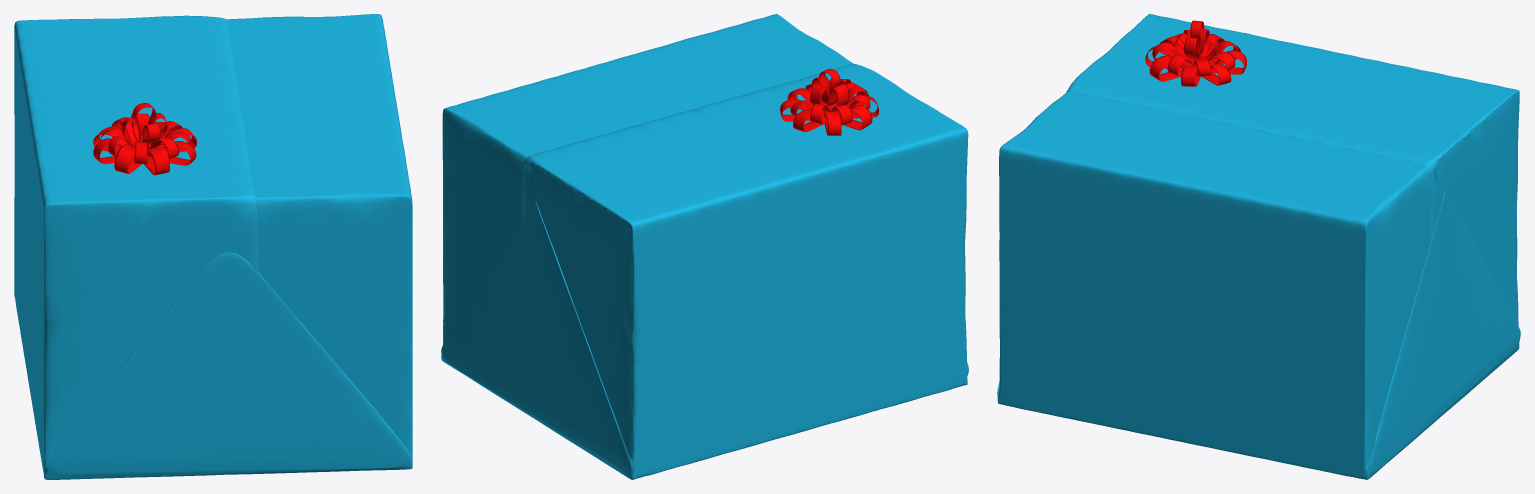
The model's file is Gift2.glb.
The picture shows the model from 3 angles, left to right: view 1: azimuth 30°, elevation 25°; view 2: azimuth 150°, elevation 25°; view 3: azimuth 270°, elevation 25°; orthographic projection. The views are drawn at different scales.
Visible parts, largest first — view 1: Line005_24 - Default2_0, BOW001_04 - Default_0; view 2: Line005_24 - Default2_0, BOW001_04 - Default_0; view 3: Line005_24 - Default2_0, BOW001_04 - Default_0.
Part boxes in pixels (x1,y1,x2,y2): Line005_24 - Default2_0: (14,14,412,479); BOW001_04 - Default_0: (93,103,196,175); Line005_24 - Default2_0: (441,14,968,479); BOW001_04 - Default_0: (780,68,878,135); Line005_24 - Default2_0: (997,14,1520,479); BOW001_04 - Default_0: (1145,20,1246,86).
Size of the model in its own units: 2.69 by 1.85 by 2.85.
